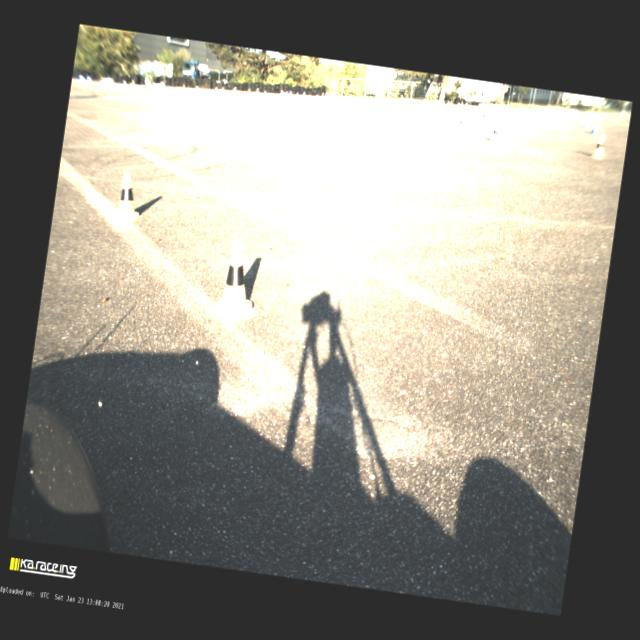blue_cone: (552, 112, 560, 125), (507, 110, 515, 122), (591, 121, 598, 134), (583, 117, 589, 129), (596, 120, 600, 133)
yellow_cone: (207, 236, 267, 326), (110, 172, 148, 228), (592, 134, 608, 160), (490, 123, 500, 143), (458, 116, 466, 130)
